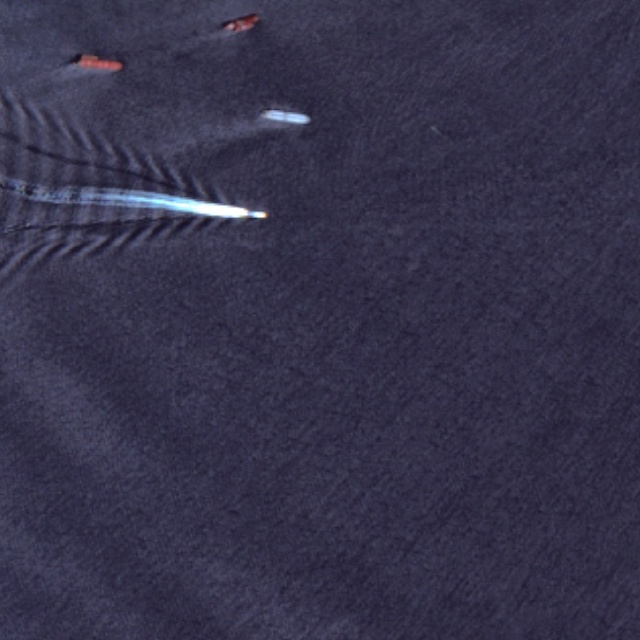wake: (21, 126, 281, 275)
